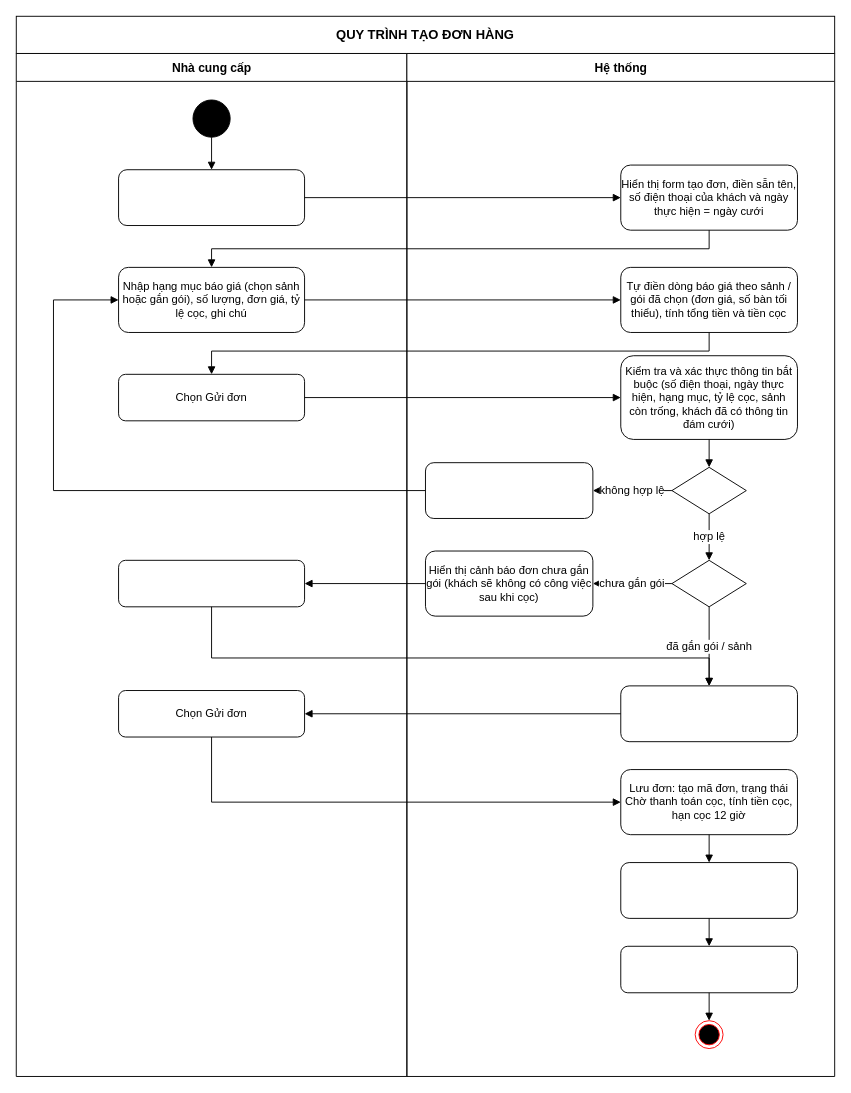
Some shapes in this 851 by 1093 pixel diagram are drawn without their labels. Each missing label, with the centre of its shape:
"Chọn Vẫn gửi" belongs at [211,583].
"Gửi thẻ đơn vào khung chat và thông báo cho khách" belongs at [708,890].
"Hiển thị hộp thoại xác nhận gửi đơn (khách có 12 giờ để đặt cọc)" belongs at [708,713].
"Hiển thị lỗi tại từng trường chưa hợp lệ, yêu cầu nhập lại" belongs at [509,490].
"Thông báo gửi đơn thành công" belongs at [708,969].
"Tại khung chat với khách, chọn Tạo đơn" belongs at [211,197].
